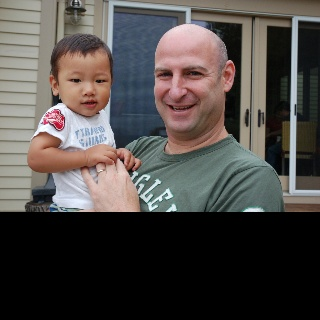without_mask: (153, 28, 225, 137), (56, 48, 111, 117)
